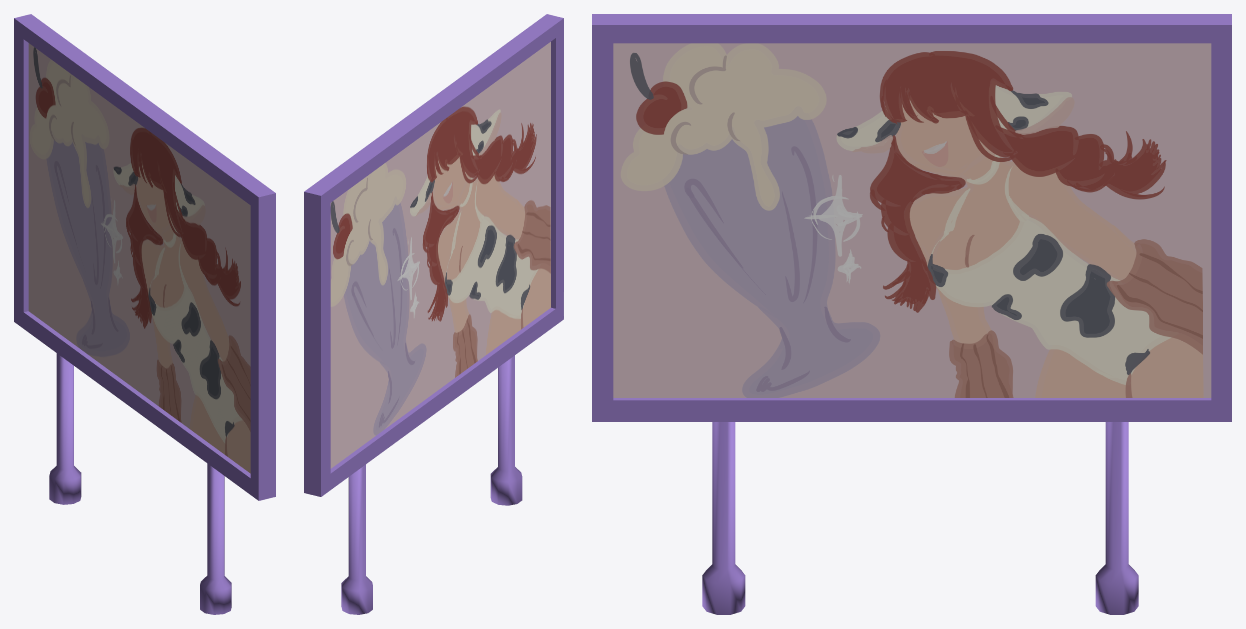
Rendered from cartelbatidos.fbx.
The picture shows the model from 3 angles, left to right: view 1: azimuth 30°, elevation 25°; view 2: azimuth 150°, elevation 25°; view 3: azimuth 270°, elevation 25°; orthographic projection. The views are drawn at different scales.
Visible parts, largest first — view 1: Cube; view 2: Cube; view 3: Cube.
Part boxes in pixels (<box>): Cube: <box>14,14,275,614</box>; Cube: <box>304,14,563,614</box>; Cube: <box>592,14,1231,614</box>.
Bounding box in the file's own units: 83.07 × 1326 × 1309.
2 materials, 2 textured.
